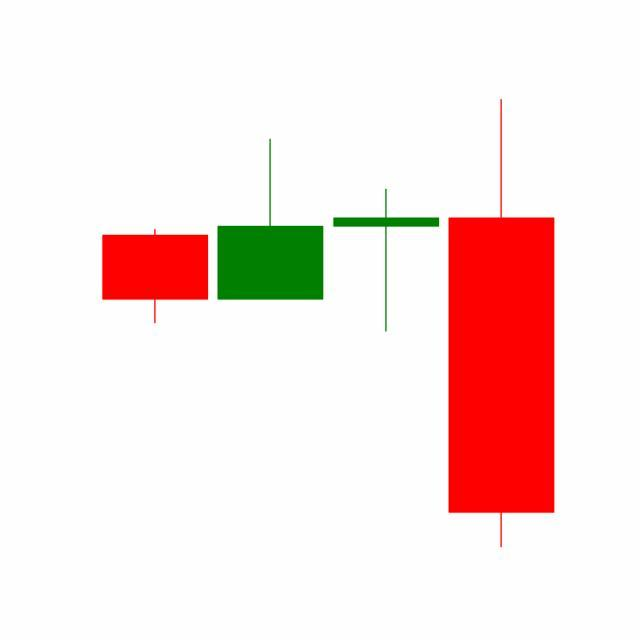Spinning Top: (329, 187, 445, 334)
